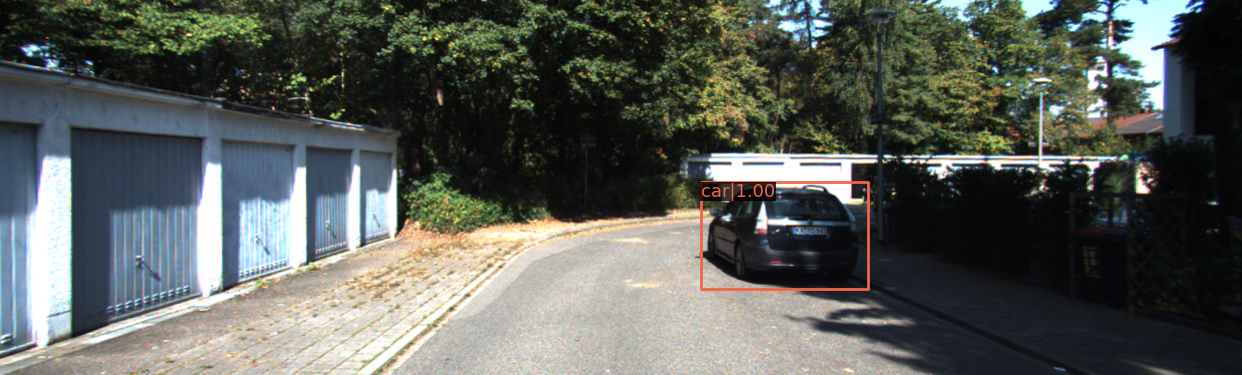car: (704, 184, 864, 283)
